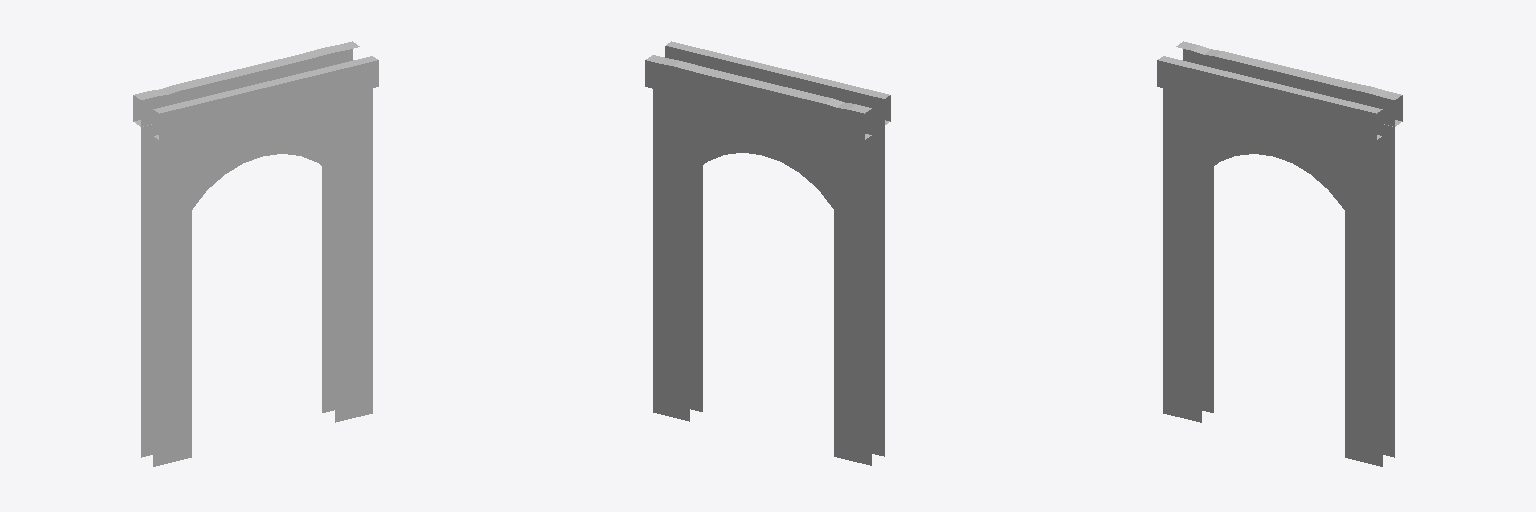
Rendered from Wall_UnevenBrick_Door_Round.obj.
3 views of the same model, side by side, from view 1: azimuth 30°, elevation 25°; view 2: azimuth 150°, elevation 25°; view 3: azimuth 330°, elevation 25° (orthographic).
Visible parts, largest first — view 1: Wall_UnevenBrick_Door_Round; view 2: Wall_UnevenBrick_Door_Round; view 3: Wall_UnevenBrick_Door_Round.
Boxes of the visible parts, x1=… form: Wall_UnevenBrick_Door_Round: x1=133, y1=41, x2=378, y2=466; Wall_UnevenBrick_Door_Round: x1=645, y1=41, x2=890, y2=465; Wall_UnevenBrick_Door_Round: x1=1157, y1=41, x2=1402, y2=466.
Size of the model in its own units: 2 by 3.12 by 0.4065.